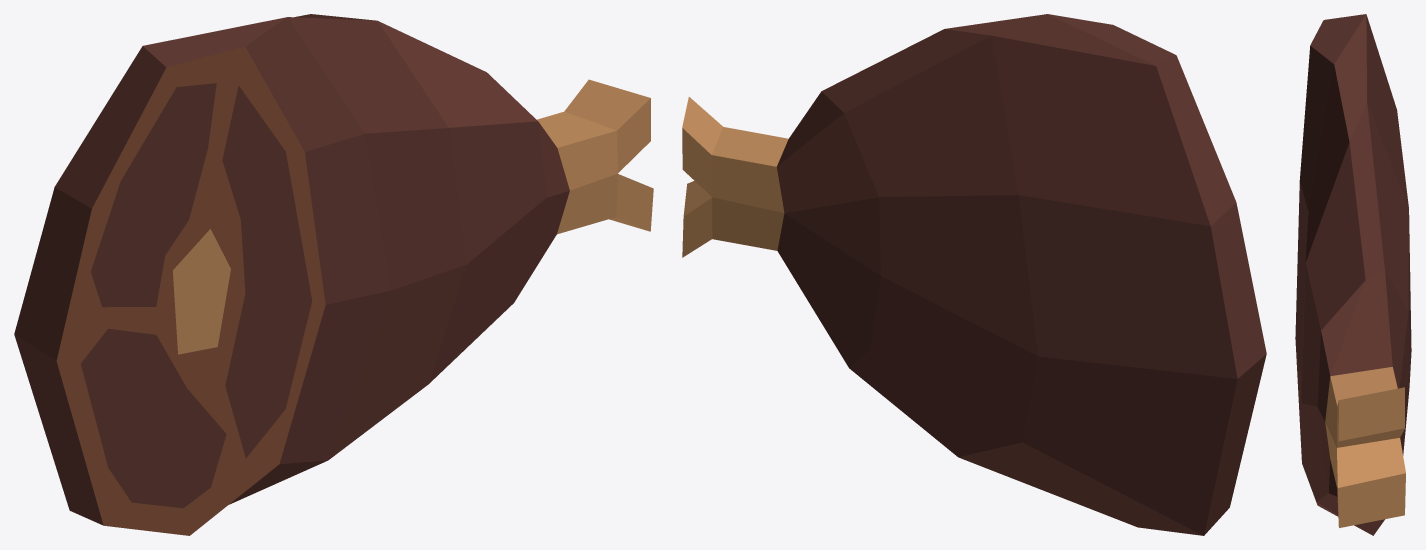
The model's file is icon_ham.fbx.
The picture shows the model from 3 angles, left to right: view 1: azimuth 30°, elevation 25°; view 2: azimuth 150°, elevation 25°; view 3: azimuth 270°, elevation 25°; orthographic projection. The views are drawn at different scales.
Visible parts, largest first — view 1: icon_ham; view 2: icon_ham; view 3: icon_ham.
Part boxes in pixels (x1=…): icon_ham: x1=14, y1=14, x2=653, y2=535; icon_ham: x1=682, y1=14, x2=1266, y2=535; icon_ham: x1=1295, y1=14, x2=1411, y2=535.
Size of the model in its own units: 40.29 by 31.61 by 7.02.
